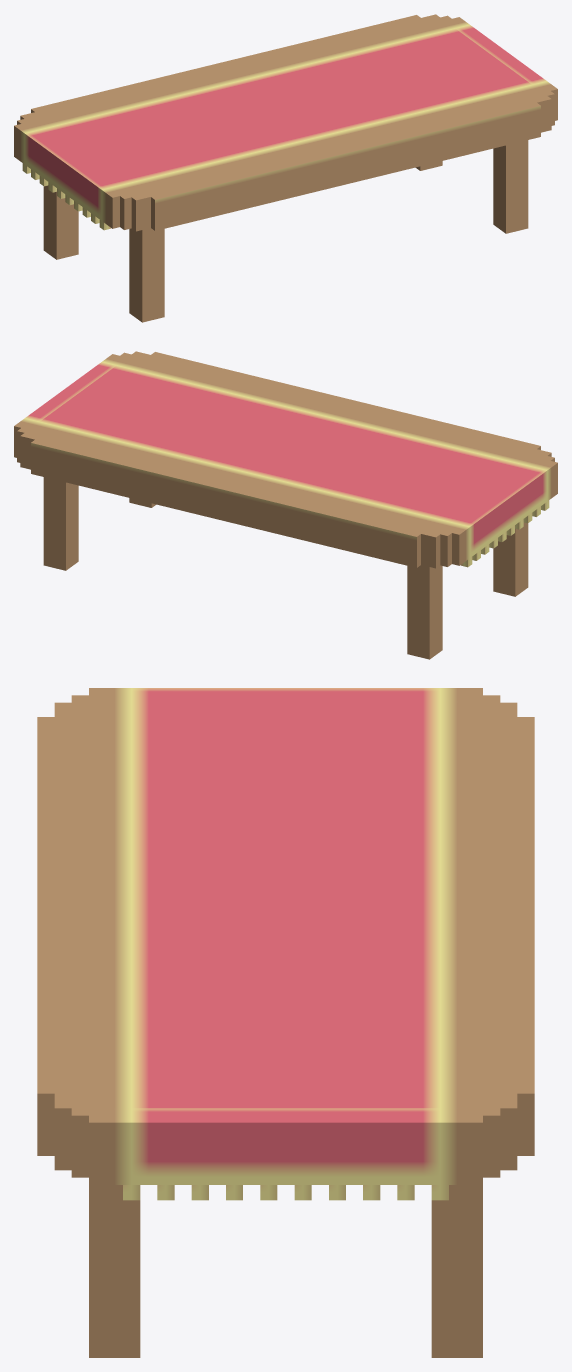
Rendered from Mesa B.obj.
3 views of the same model, one above another, from view 1: azimuth 30°, elevation 25°; view 2: azimuth 150°, elevation 25°; view 3: azimuth 270°, elevation 25° (orthographic). The views are drawn at different scales.
Parts seen in each view (by area): view 1: Model; view 2: Model; view 3: Model.
Part boxes in pixels (x1=…): Model: x1=14, y1=14, x2=557, y2=322; Model: x1=14, y1=351, x2=557, y2=659; Model: x1=37, y1=688, x2=534, y2=1357.
Size of the model in its own units: 32 by 9.07 by 15.47.
Materials: 1 (1 with a texture image).
